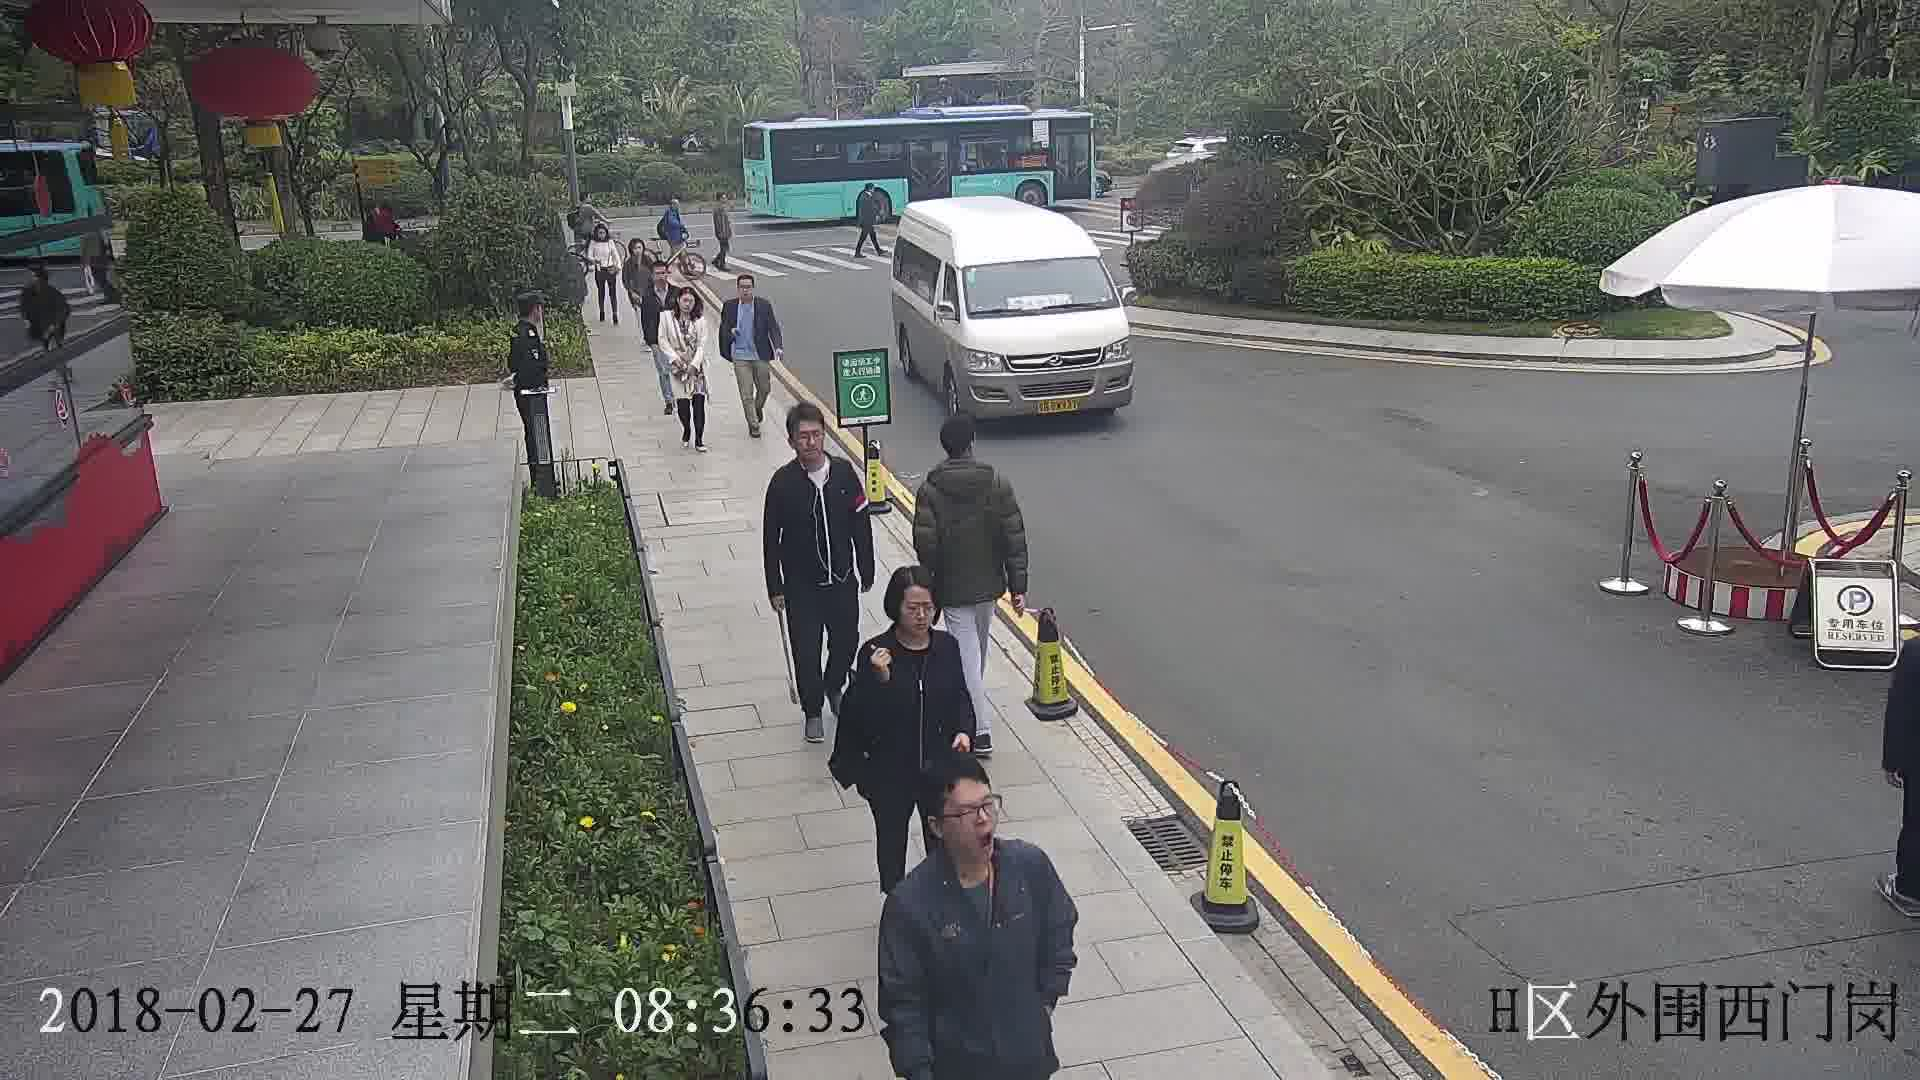face: (928, 777, 1009, 858), (896, 587, 940, 637), (782, 418, 830, 464)
person: (878, 759, 1062, 930), (846, 559, 965, 677), (762, 401, 859, 500), (920, 411, 1013, 511), (662, 284, 707, 329), (511, 292, 551, 341), (725, 271, 772, 313), (643, 259, 676, 296), (626, 235, 652, 265), (856, 175, 880, 204), (591, 223, 615, 251), (662, 193, 683, 215), (371, 201, 391, 220), (712, 190, 731, 212)
